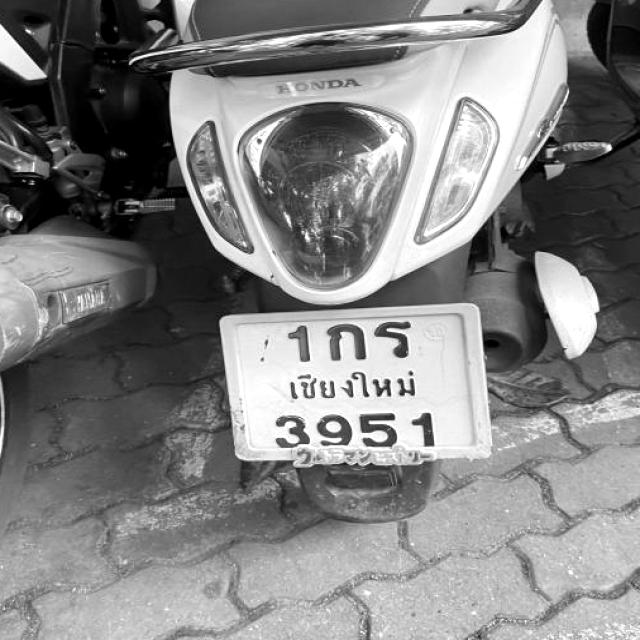letters: (322, 318, 369, 364), (273, 315, 316, 364), (370, 323, 413, 362), (361, 407, 399, 448), (272, 412, 312, 450), (314, 413, 353, 451), (414, 414, 444, 448)
license-plate: (223, 307, 482, 460)
province: (285, 367, 431, 401)
